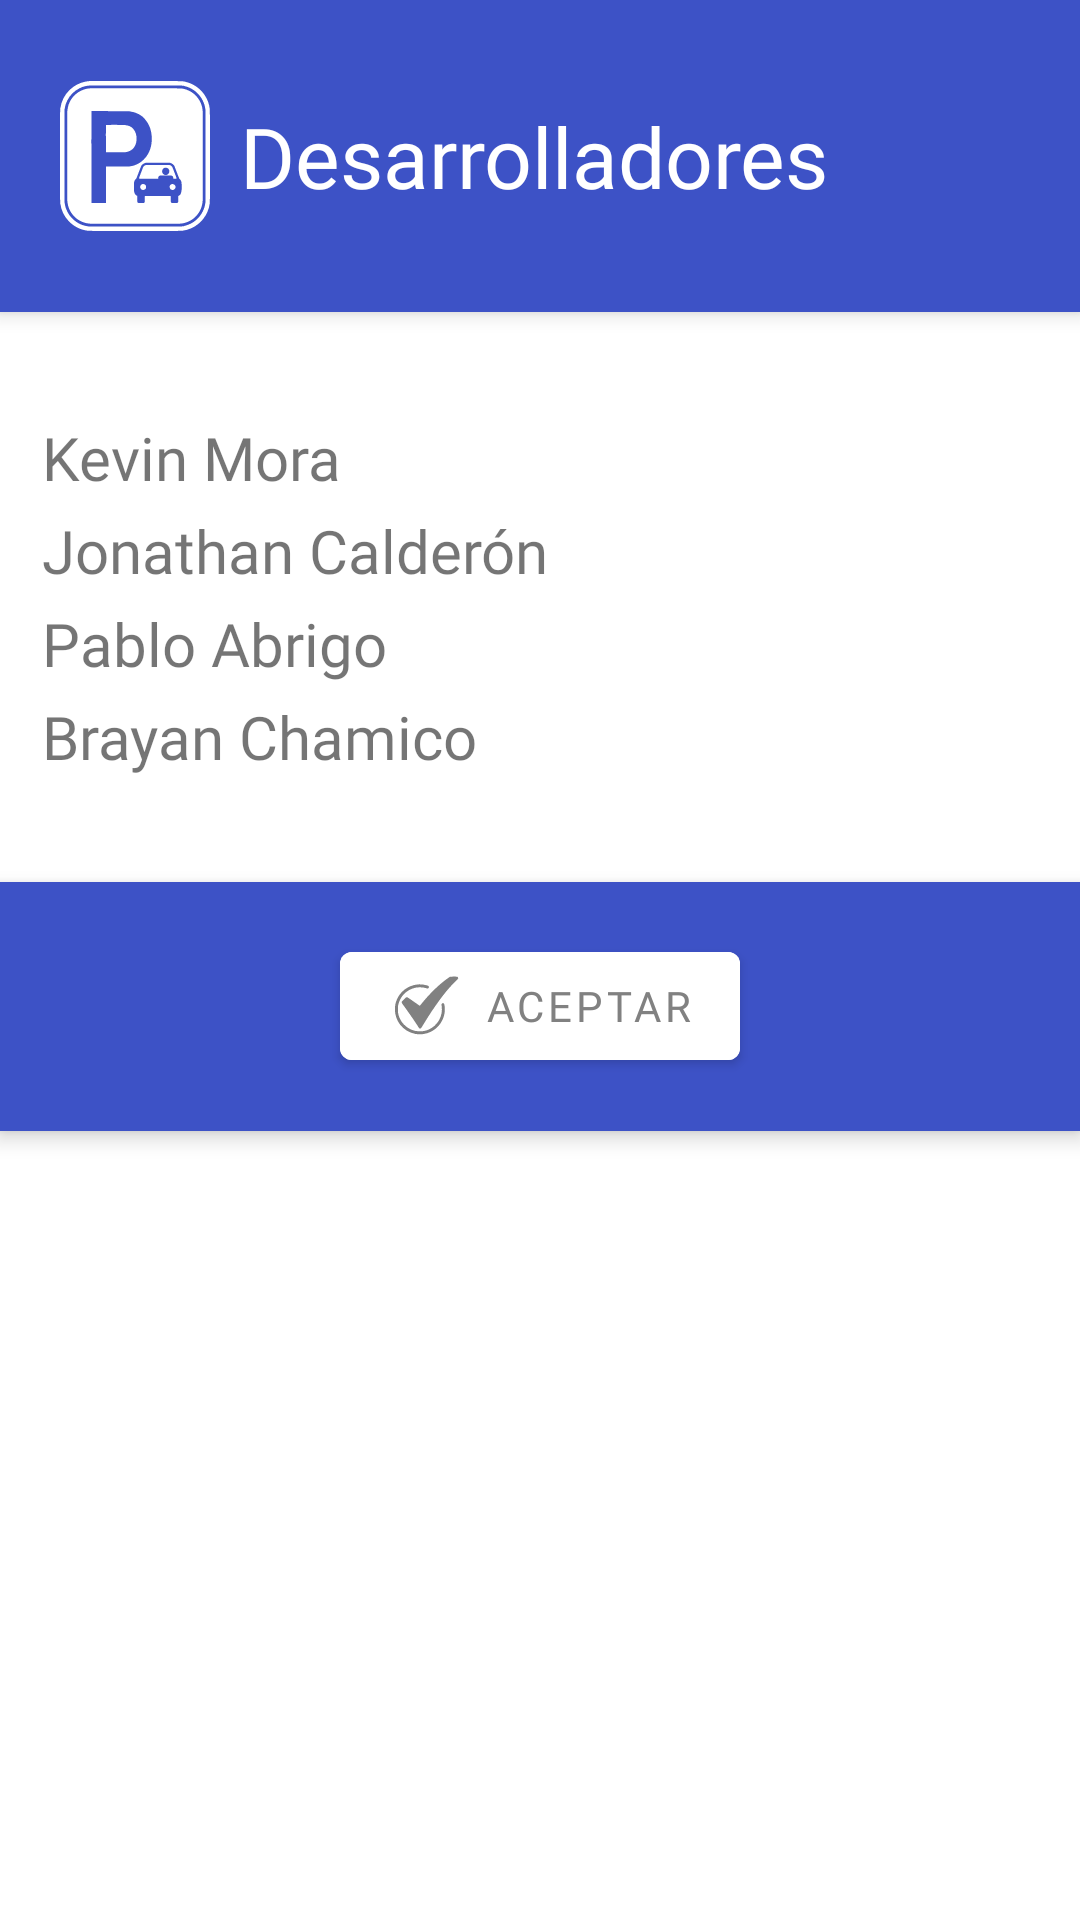

Named icons in this screenshot (1080 × 1920) and their bounding boxes, (x1, y1, x2, y2):
parke: (60, 81, 210, 231)
